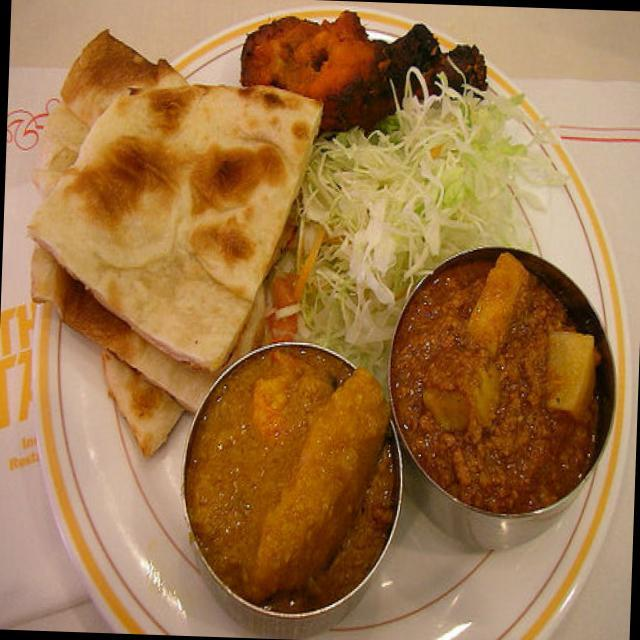Beef Curry: (418, 292, 570, 468)
